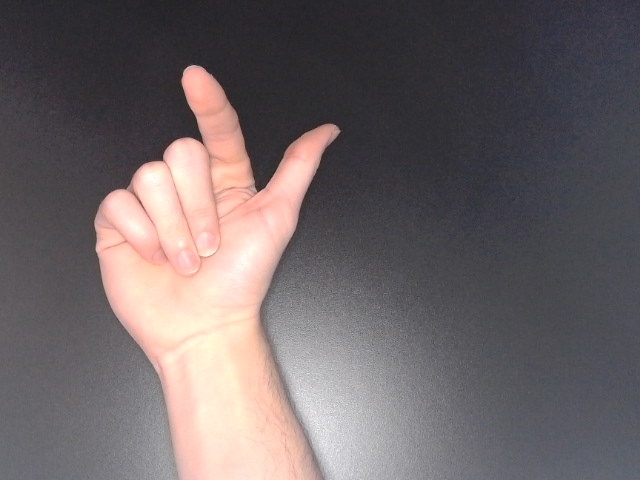t: (89, 60, 346, 369)
